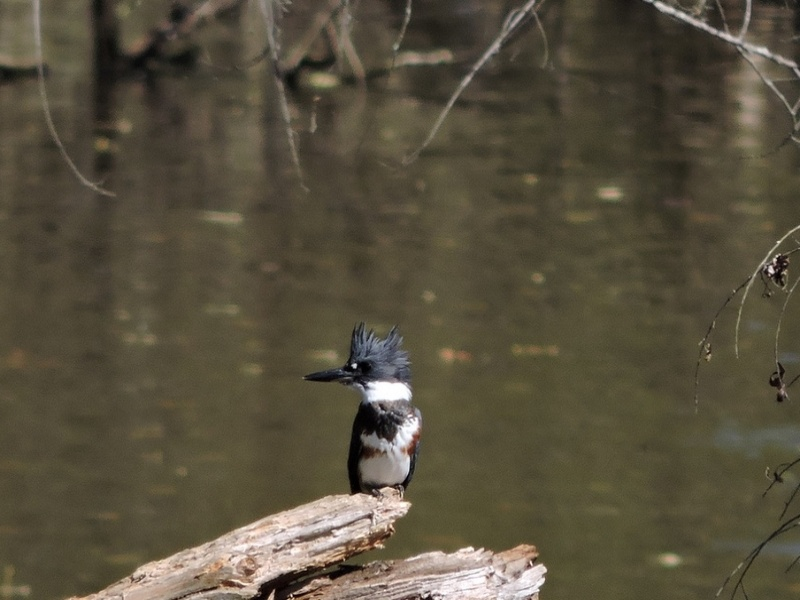kingfisher: (299, 322, 421, 493)
